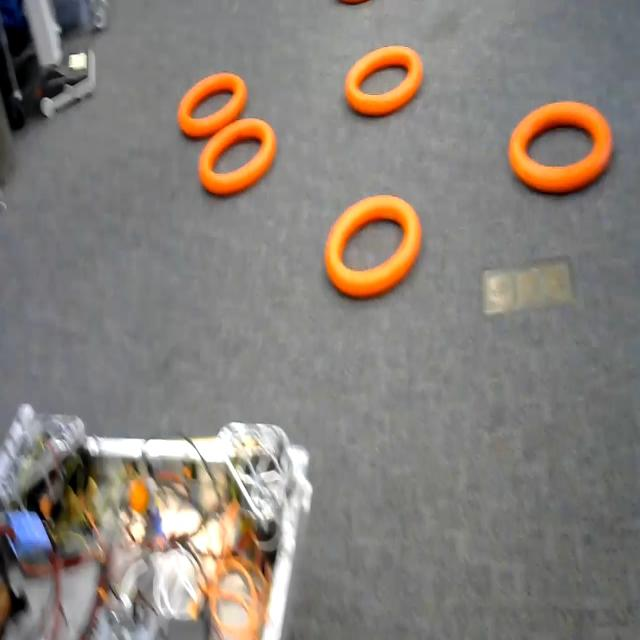note: (506, 102, 618, 198), (323, 194, 422, 292), (339, 46, 431, 120), (198, 127, 279, 191), (173, 72, 253, 122)
